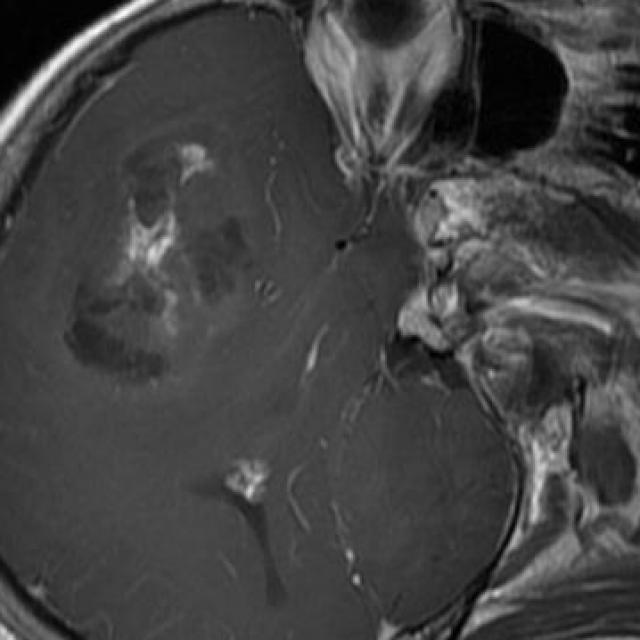glioma: (66, 134, 251, 378)
